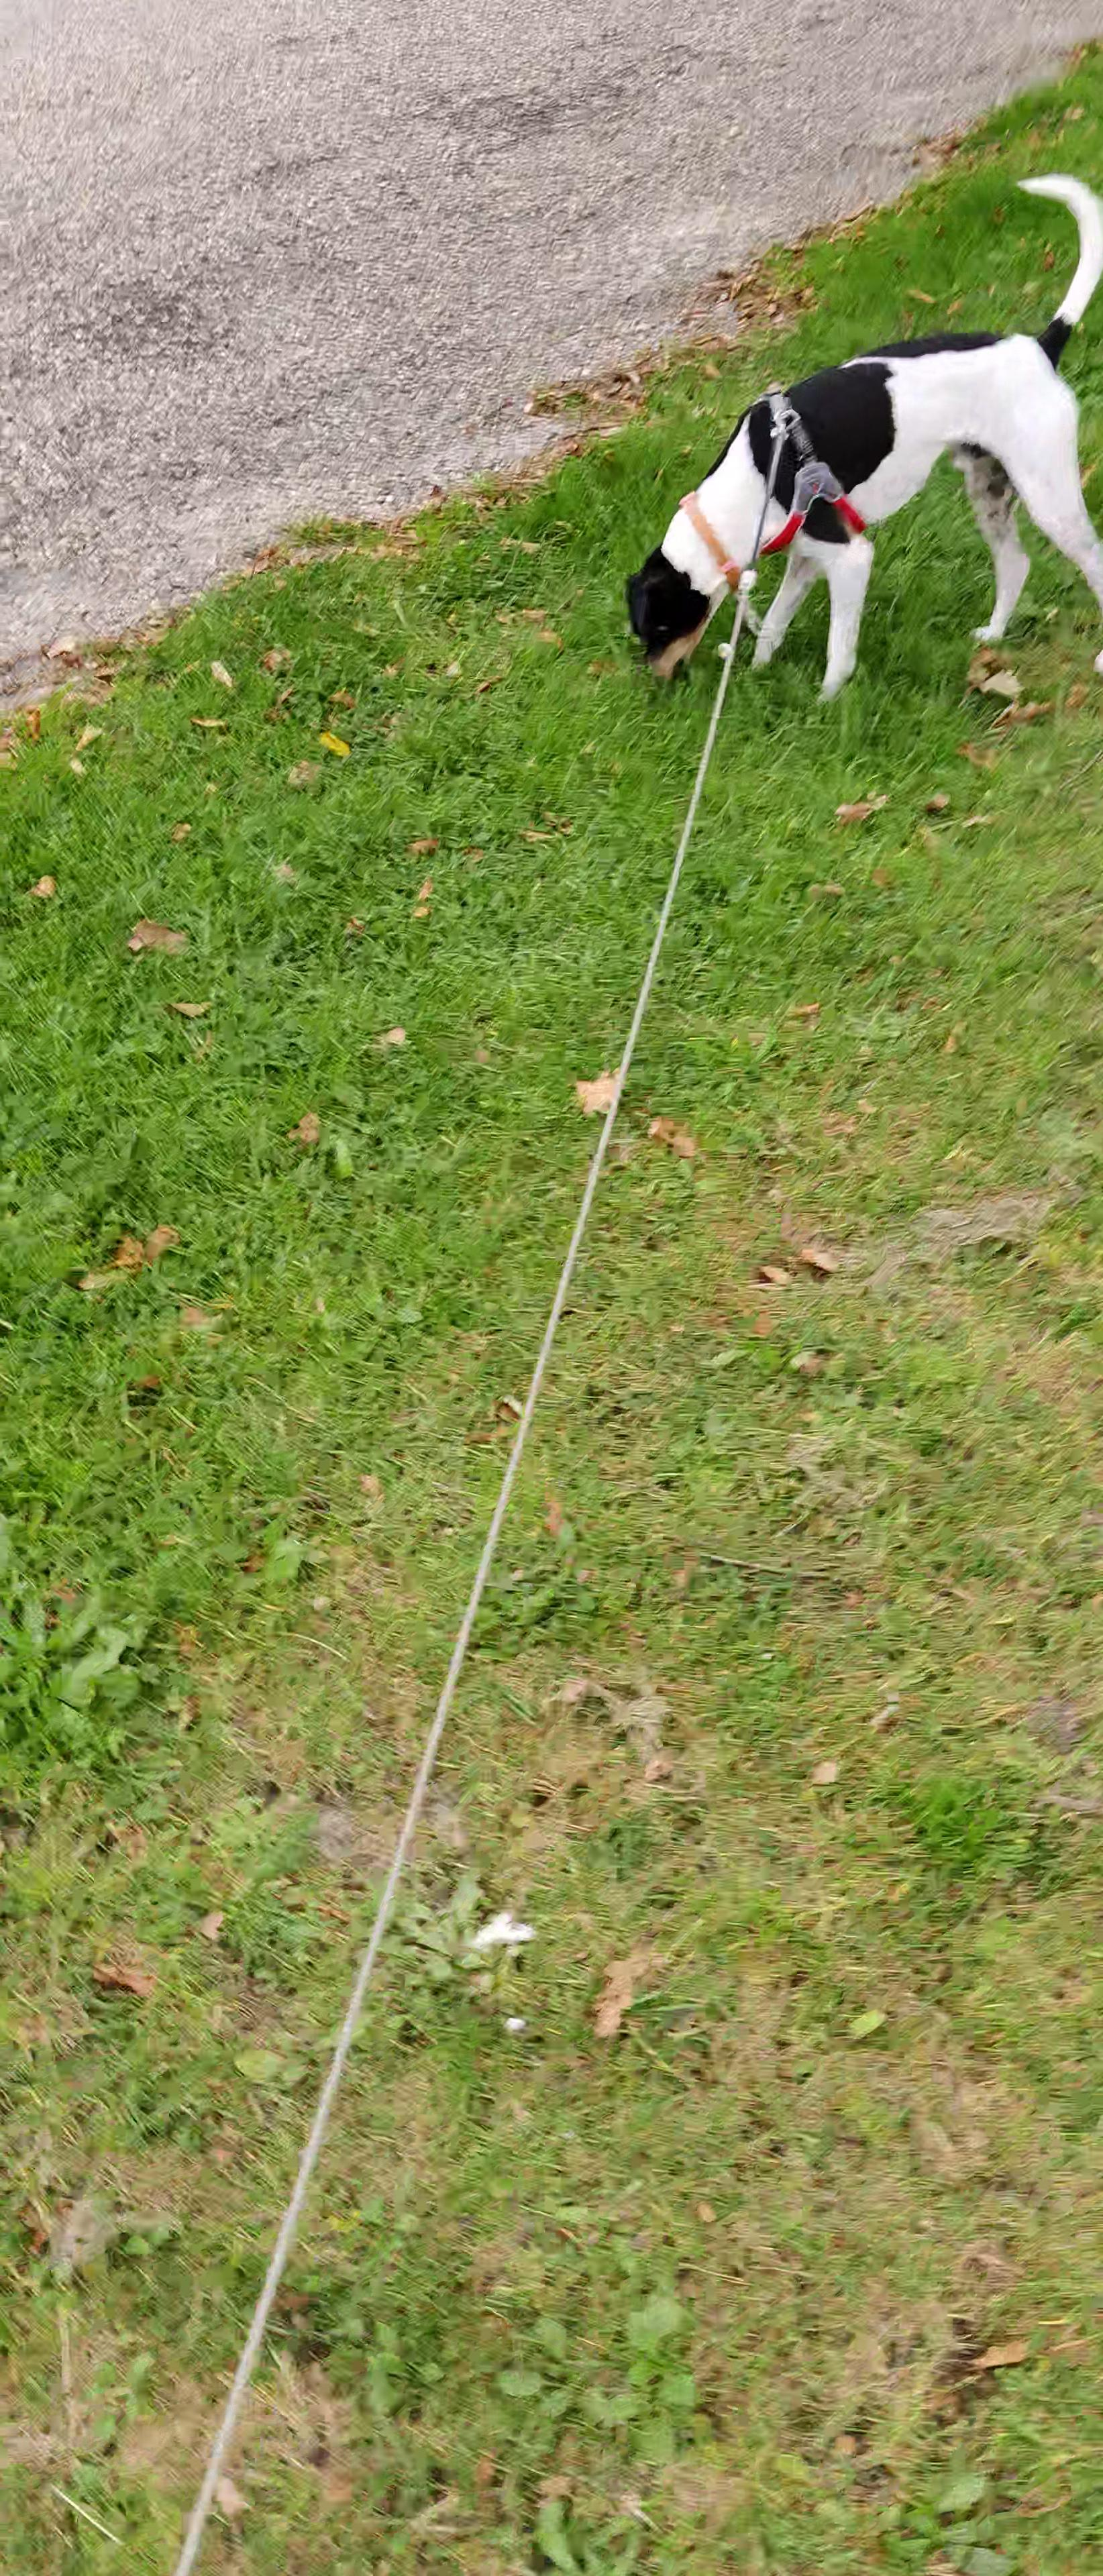Dog: (613, 166, 1103, 710)
